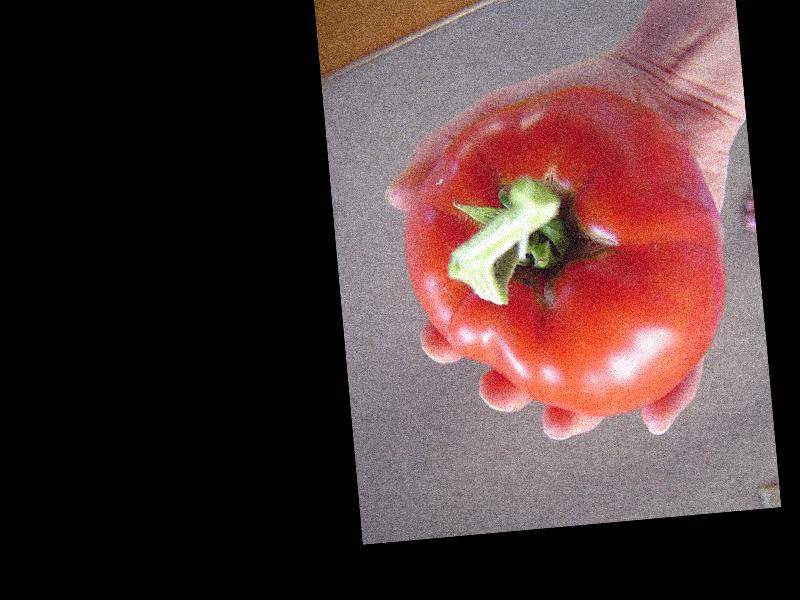Tomato: (391, 76, 737, 431)
